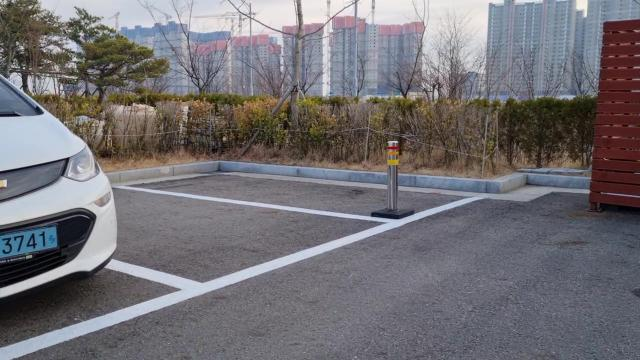empty: (103, 182, 404, 292)
